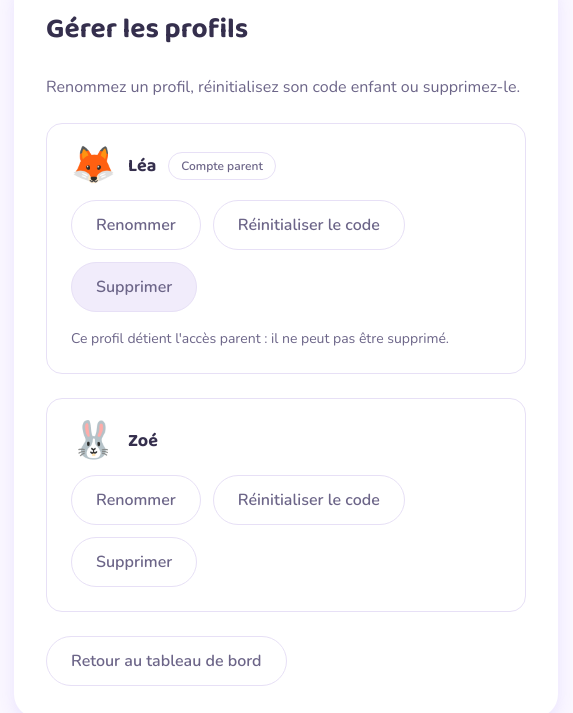
Test: ProfileManager — renommer › erreur réseau (throw) → repli GENERIC
The width and height of the screenshot is (573, 713).
Click the button "Renommer" below "Zoé" at (136,500), box [71,475,201,525]
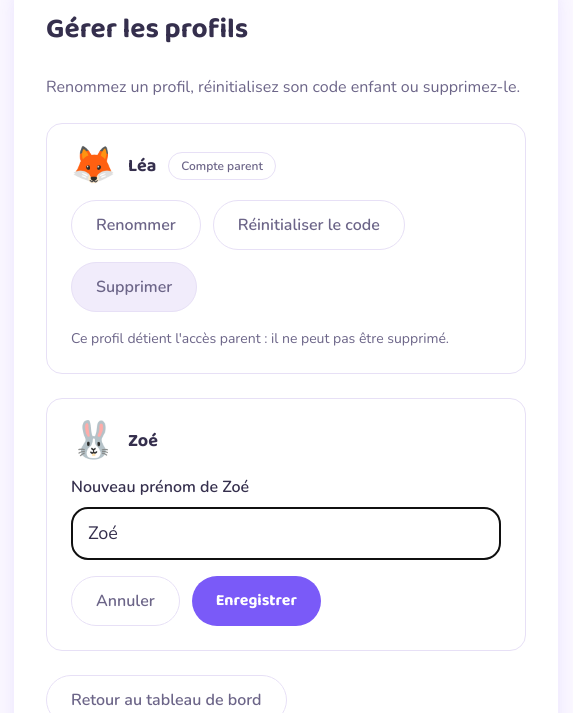
Click the button "Enregistrer" at (256,601), box [192,576,321,626]
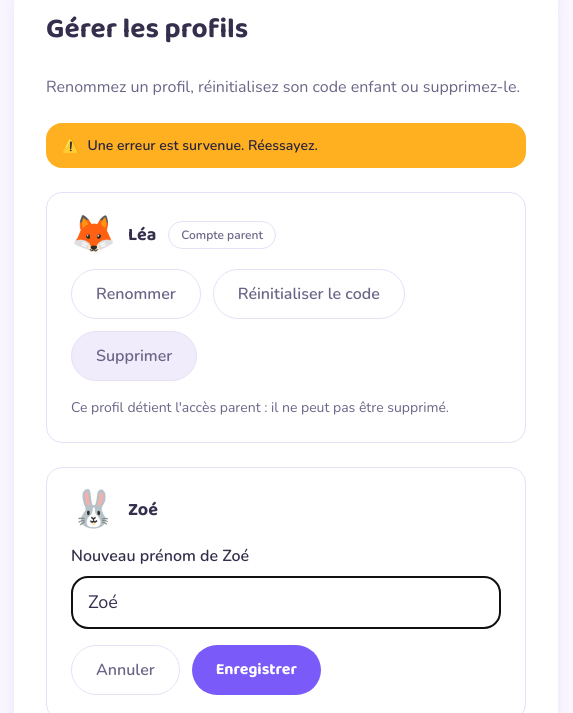
Expected: the message shows "Une erreur est survenue. Réessayez.", [88,136,318,155]
